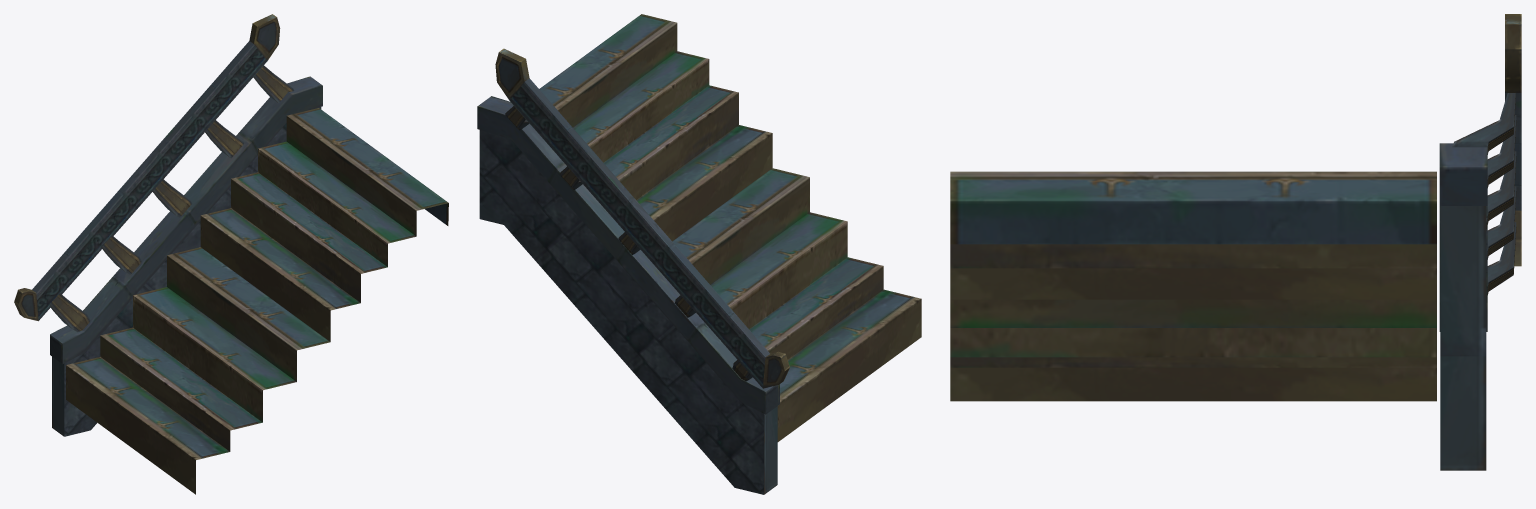
File: fb7_louti01.FBX
The picture shows the model from 3 angles, left to right: view 1: azimuth 30°, elevation 25°; view 2: azimuth 150°, elevation 25°; view 3: azimuth 270°, elevation 25°; orthographic projection. The views are drawn at different scales.
Visible parts, largest first — view 1: fb7_louti01_002, fb7_louti01_001; view 2: fb7_louti01_002, fb7_louti01_001; view 3: fb7_louti01_002, fb7_louti01_001.
Part boxes in pixels (<box>): fb7_louti01_002: <box>66,108,448,494</box>; fb7_louti01_001: <box>14,14,322,436</box>; fb7_louti01_002: <box>539,14,921,441</box>; fb7_louti01_001: <box>477,48,789,494</box>; fb7_louti01_002: <box>950,171,1436,401</box>; fb7_louti01_001: <box>1439,14,1521,470</box>.
Bounding box in the file's own units: 507 × 592 × 467.
